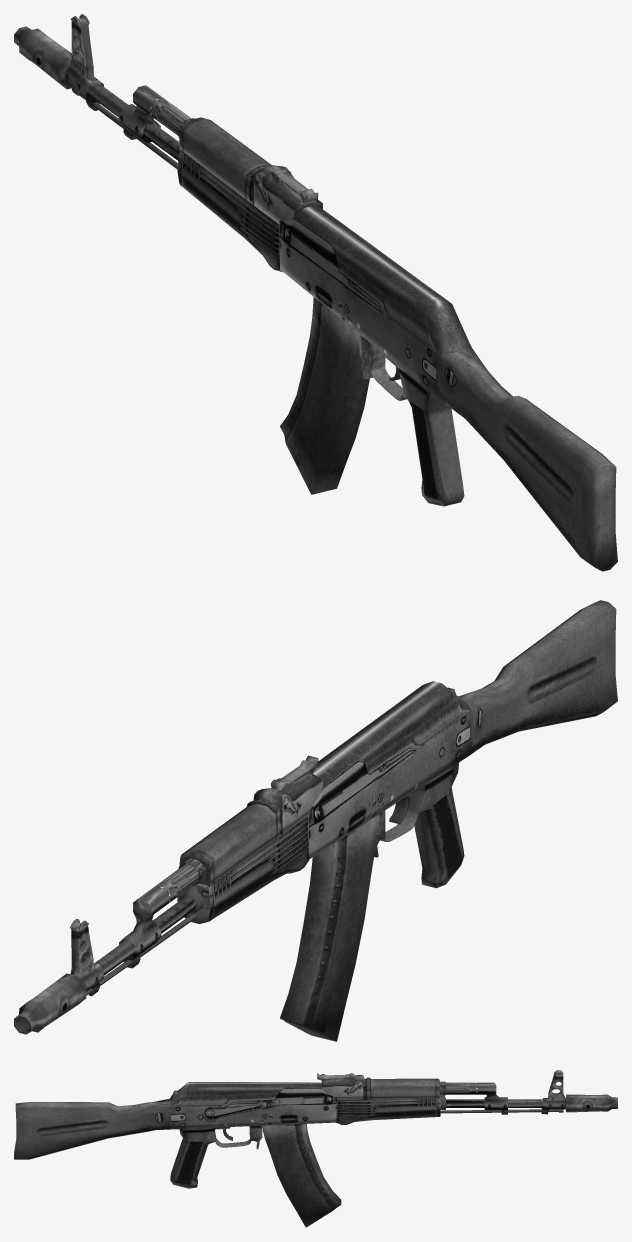
The model's file is gun.gltf.
3 views of the same model, one above another, from view 1: azimuth 30°, elevation 25°; view 2: azimuth 150°, elevation 25°; view 3: azimuth 270°, elevation 25° (orthographic). The views are drawn at different scales.
Parts seen in each view (by area): view 1: Ak-74; view 2: Ak-74; view 3: Ak-74.
Boxes of the visible parts, left/top/right/bottom form: Ak-74: left=14, top=14, right=617, bottom=571; Ak-74: left=14, top=600, right=617, bottom=1041; Ak-74: left=14, top=1070, right=617, bottom=1227.
Size of the model in its own units: 3.14 by 26.27 by 93.81.
1 material, 1 textured.
